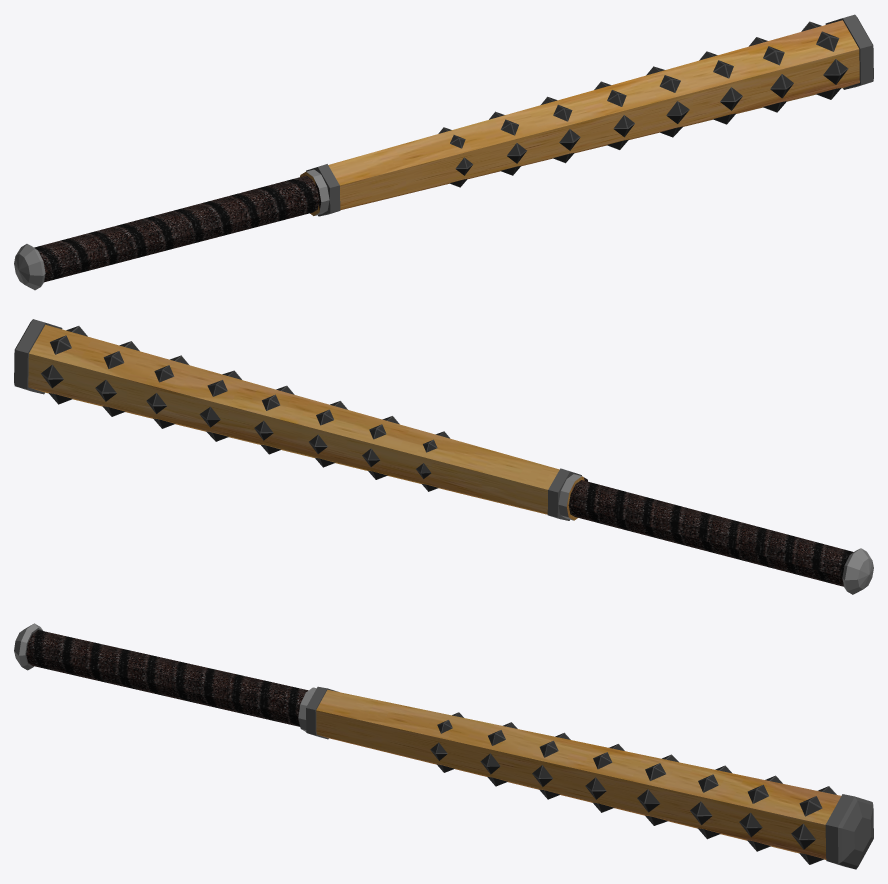
The model's file is WorldItem_Kanabo.fbx.
3 views of the same model, one above another, from view 1: azimuth 30°, elevation 25°; view 2: azimuth 150°, elevation 25°; view 3: azimuth 330°, elevation 25° (orthographic).
Visible parts, largest first — view 1: ZomboidKanabo; view 2: ZomboidKanabo; view 3: ZomboidKanabo.
Boxes of the visible parts, x1,y1,x2,y2 form: ZomboidKanabo: (14,14,873,290); ZomboidKanabo: (14,319,873,594); ZomboidKanabo: (14,623,873,869).
Bounding box in the file's own units: 0.9544 × 0.0787 × 0.0799.
